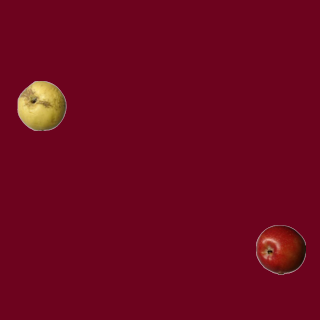Apple Braeburn: (255, 224, 305, 274)
Apple Golden 1: (16, 80, 66, 130)
